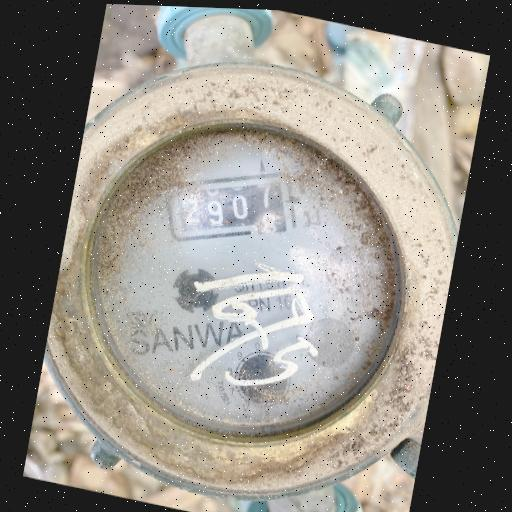0: (219, 180, 263, 233)
2: (171, 184, 214, 238)
7: (242, 175, 294, 240)
9: (195, 182, 238, 234)
border_water_meter_number: (152, 144, 308, 268)
